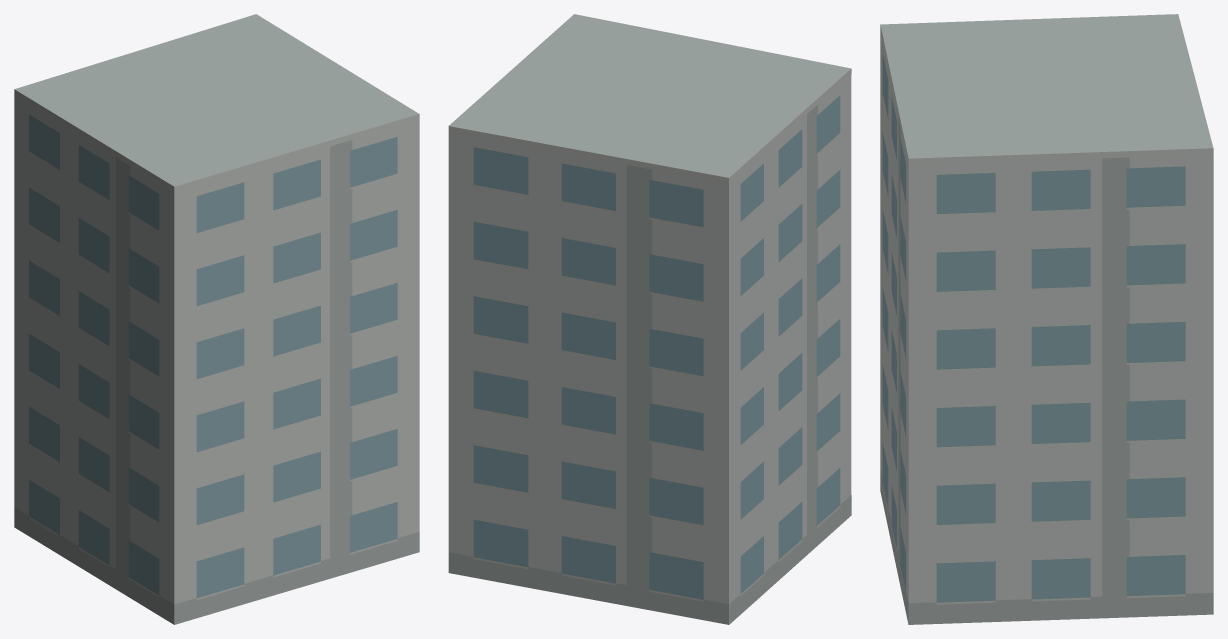
Rendered from survey-upis-32820183.glb.
3 views of the same model, side by side, from view 1: azimuth 30°, elevation 25°; view 2: azimuth 150°, elevation 25°; view 3: azimuth 270°, elevation 25° (orthographic). The views are drawn at different scales.
Visible parts, largest first — view 1: survey-upis-32820183.tmp; view 2: survey-upis-32820183.tmp; view 3: survey-upis-32820183.tmp.
Boxes of the visible parts, x1,y1,x2,y2 form: survey-upis-32820183.tmp: [14, 14, 419, 624]; survey-upis-32820183.tmp: [448, 14, 851, 624]; survey-upis-32820183.tmp: [880, 14, 1213, 624].
Size of the model in its own units: 12.18 by 18.3 by 11.86.
